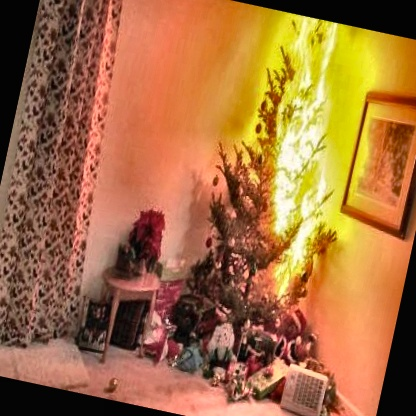fire: (189, 4, 386, 315)
